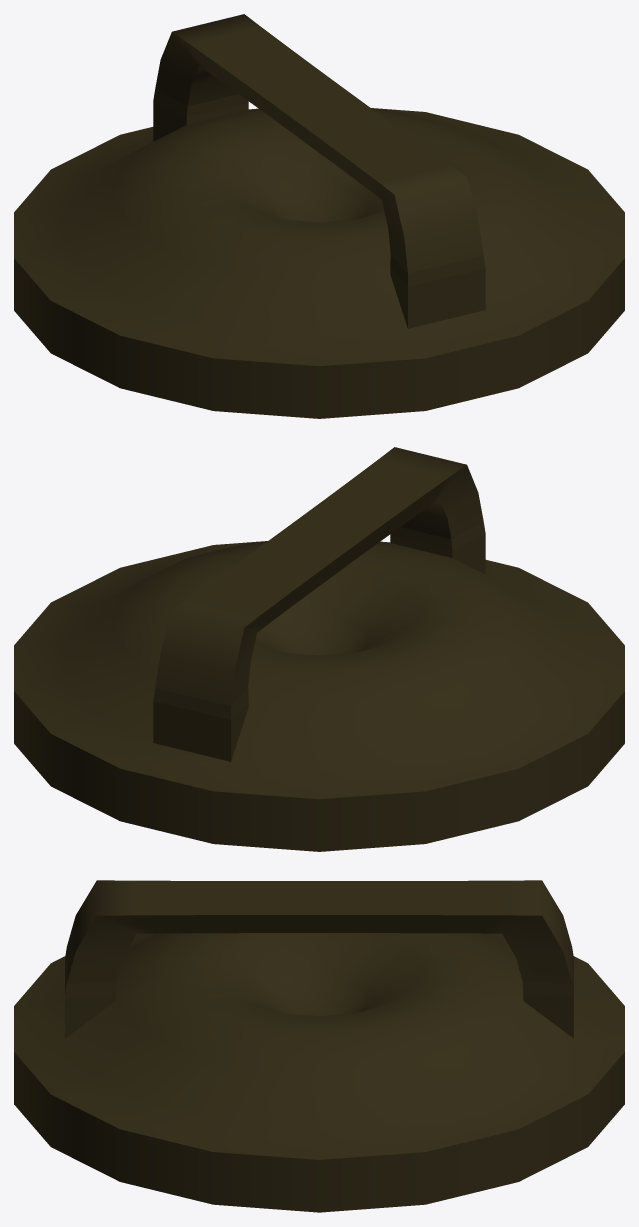
Rendered from bouche_egout.fbx.
3 views of the same model, one above another, from view 1: azimuth 30°, elevation 25°; view 2: azimuth 150°, elevation 25°; view 3: azimuth 270°, elevation 25° (orthographic).
Visible parts, largest first — view 1: pCylinder1; view 2: pCylinder1; view 3: pCylinder1.
Part boxes in pixels (bbox=[...]): pCylinder1: bbox=[14, 14, 624, 418]; pCylinder1: bbox=[14, 447, 624, 851]; pCylinder1: bbox=[14, 880, 624, 1212].
Size of the model in its own units: 18.47 by 6.03 by 18.19.
